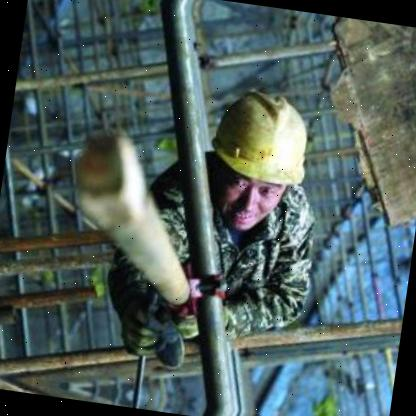capacete: (204, 81, 319, 192)
